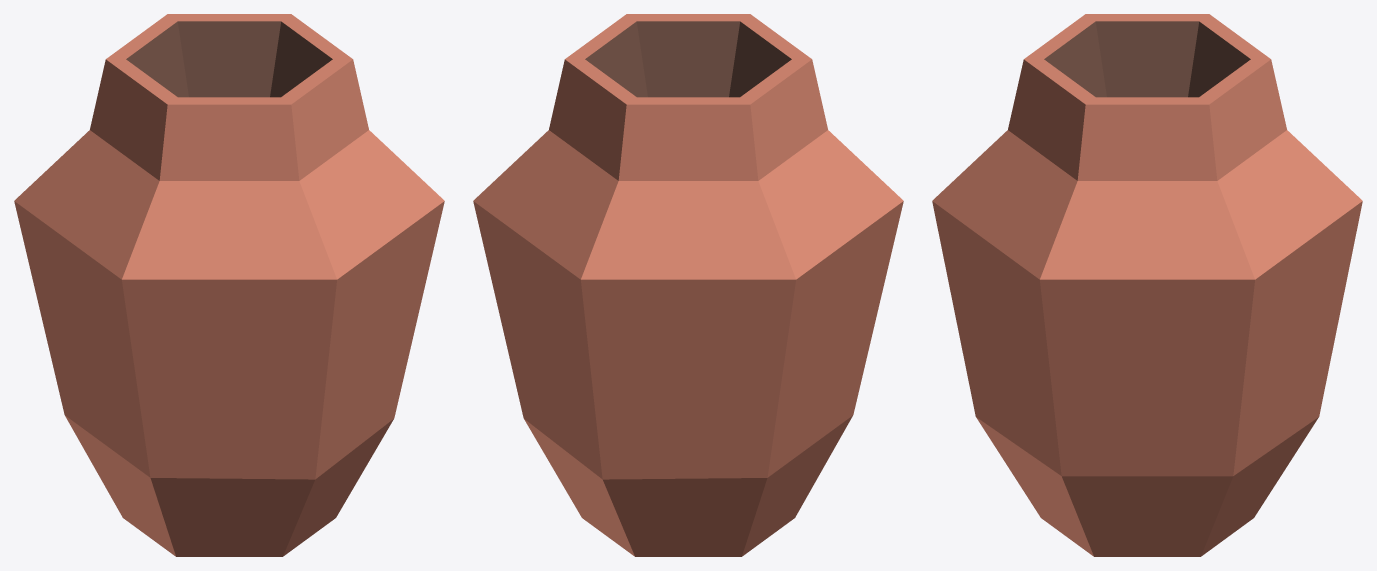
File: prop_056.fbx
The picture shows the model from 3 angles, left to right: view 1: azimuth 30°, elevation 25°; view 2: azimuth 150°, elevation 25°; view 3: azimuth 270°, elevation 25°; orthographic projection.
Visible parts, largest first — view 1: prop.056; view 2: prop.056; view 3: prop.056.
Boxes of the visible parts, box(x1,y1,x2,y2) form: prop.056: box(14, 14, 444, 556); prop.056: box(473, 14, 903, 556); prop.056: box(932, 14, 1362, 556).
Bounding box in the file's own units: 73.13 × 99.22 × 84.44.
1 material, 1 textured.
